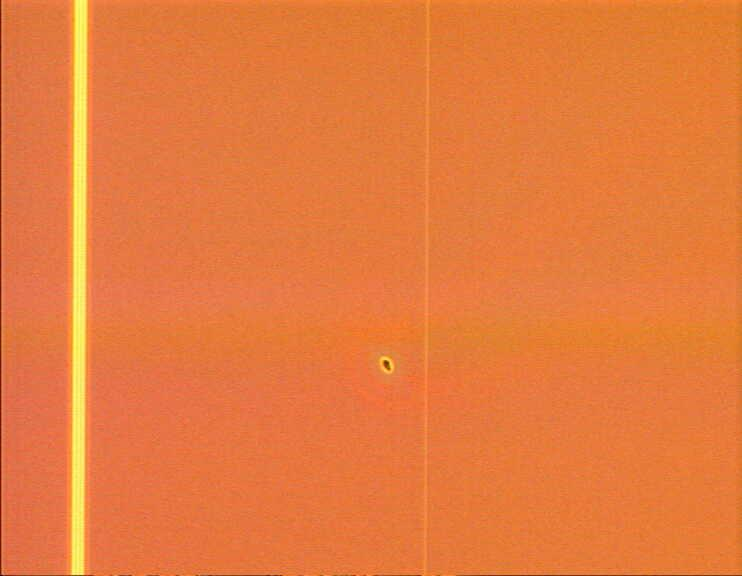PIQ PARTICLE: (377, 355, 400, 377)
